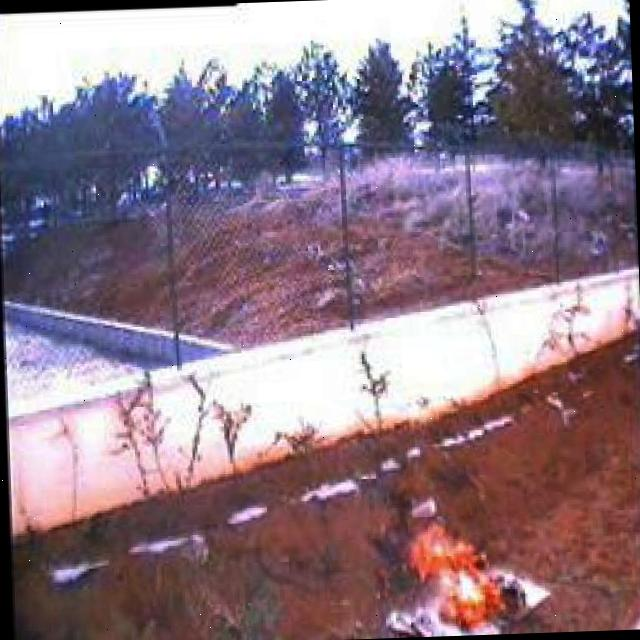fire: (406, 518, 533, 637)
